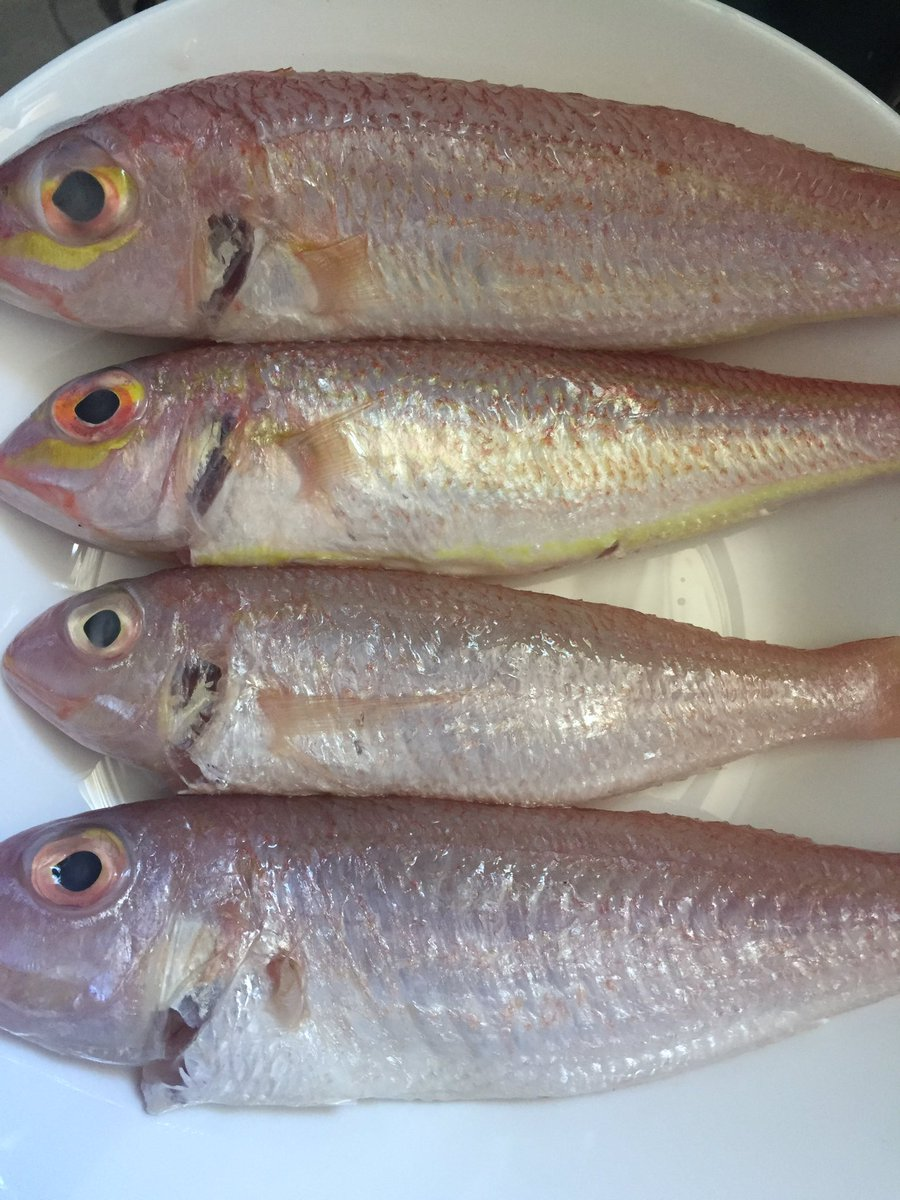Ikan Kerisi: (4, 778, 900, 1130), (5, 58, 900, 376), (1, 313, 900, 580), (5, 553, 900, 799)
